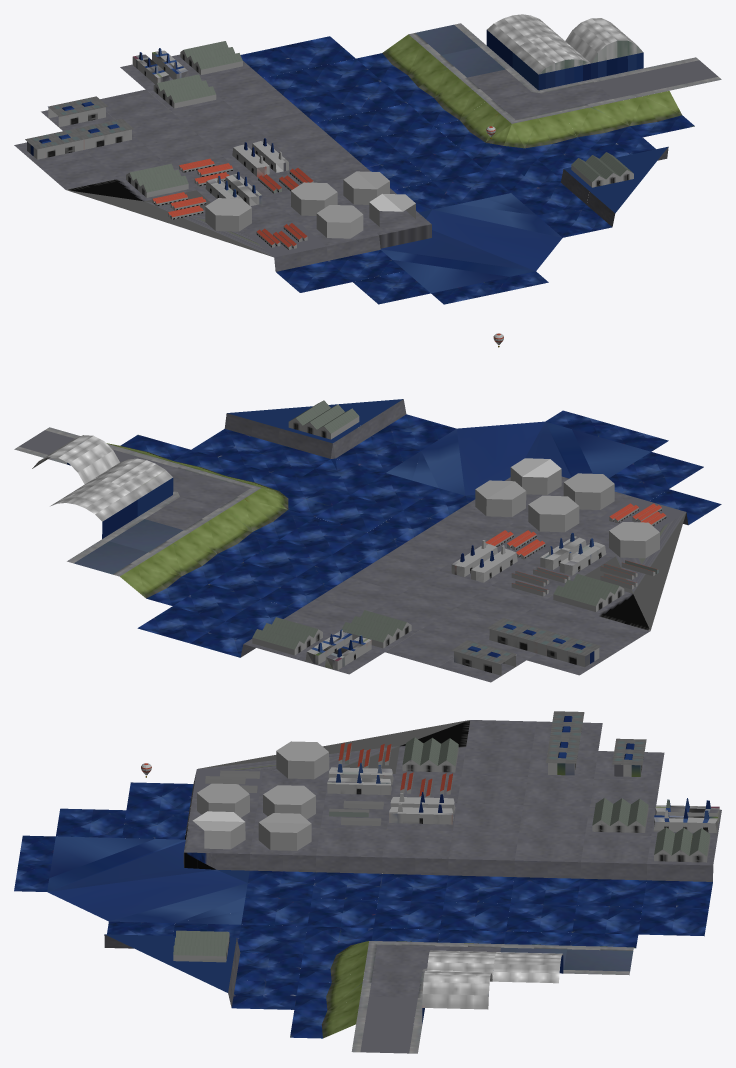
File: balloon.obj
3 views of the same model, one above another, from view 1: azimuth 30°, elevation 25°; view 2: azimuth 150°, elevation 25°; view 3: azimuth 270°, elevation 25° (orthographic). The views are drawn at different scales.
Parts seen in each view (by area): view 1: shot_2026-05-01_00-23-13-580.001; view 2: shot_2026-05-01_00-23-13-580.001; view 3: shot_2026-05-01_00-23-13-580.001.
Part boxes in pixels (left/top/right/bottom): shot_2026-05-01_00-23-13-580.001: left=14, top=14, right=721, bottom=304; shot_2026-05-01_00-23-13-580.001: left=14, top=333, right=721, bottom=682; shot_2026-05-01_00-23-13-580.001: left=14, top=711, right=721, bottom=1053.
Bounding box in the file's own units: 646 × 117 × 576.
Materials: 1 (1 with a texture image).
